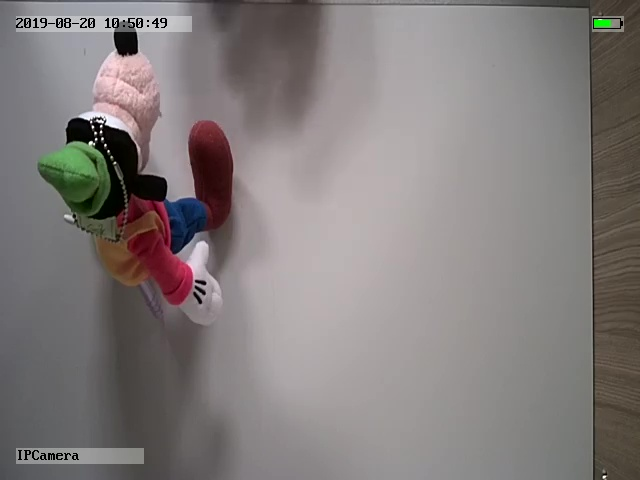goofy: (37, 21, 233, 326)
